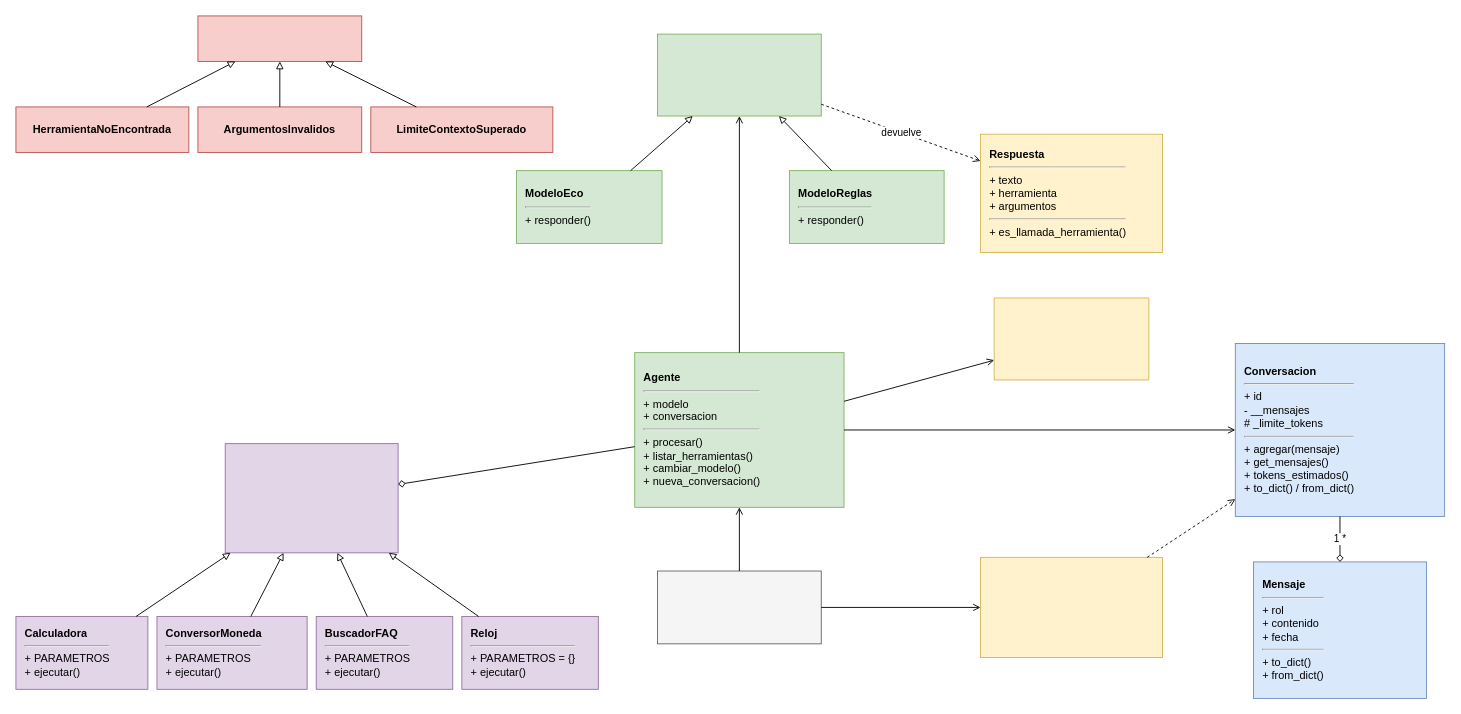
The diagram is 1461 pixels wide and 714 high, and some of its shapes have lost their labels. The centre of each missing label's shape, as x and y in pixels:
"ChatConsola + iniciar()" goes at pixel 739 607.
"ErrorAgente" goes at pixel 279 38.
"Herramienta + nombre + descripcion + esquema() + ejecutar()" goes at pixel 311 498.
"Modelo + nombre + responder()" goes at pixel 739 74.
"RegistroUso + registrar() + resumen()" goes at pixel 1071 338.
"RepositorioConversaciones + guardar() + cargar() + listar()" goes at pixel 1071 606.
